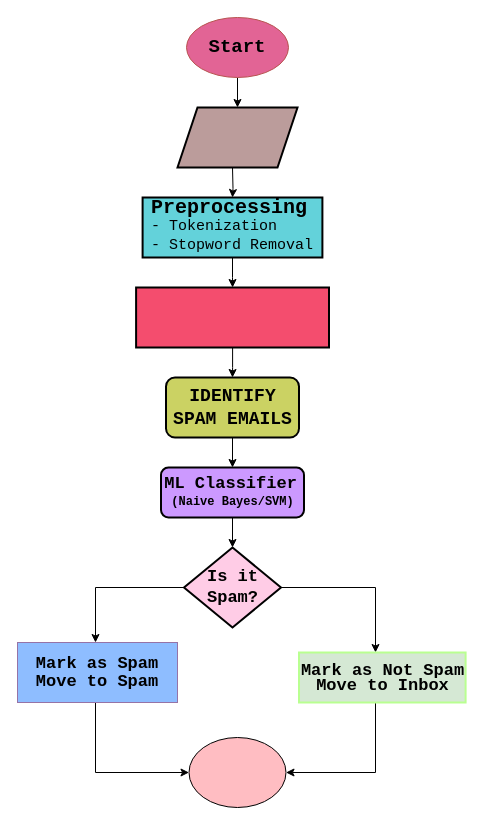
Image size: 484x825. Some labels were removed from this diagram. Each missing label, with the box of its shape:
End: (188, 736, 286, 808)
Feature Extraction - TF-IDF / BoW: (135, 286, 330, 348)
Incoming Emails: (176, 106, 298, 168)
